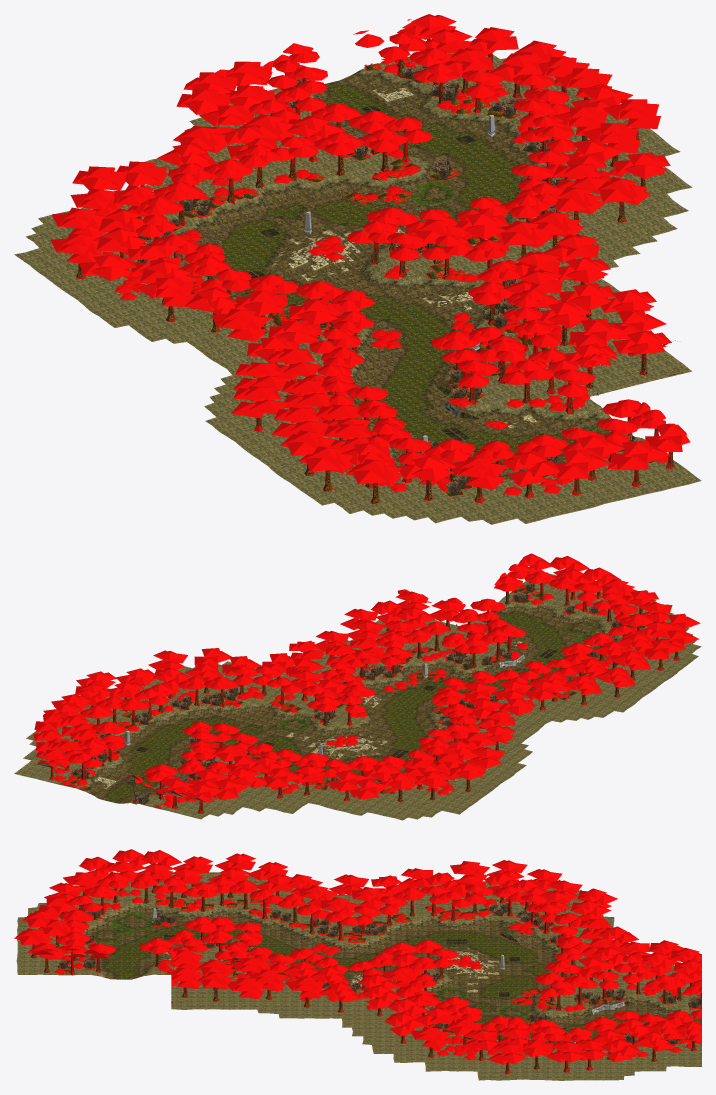
Rendered from EastBoseHighway2.obj.
3 views of the same model, one above another, from view 1: azimuth 30°, elevation 25°; view 2: azimuth 150°, elevation 25°; view 3: azimuth 270°, elevation 25° (orthographic). The views are drawn at different scales.
Parts seen in each view (by area): view 1: Object.2, Object.002; view 2: Object.2, Object.002; view 3: Object.2, Object.002.
Part boxes in pixels (bbox=[...]): Object.2: bbox=[14, 14, 692, 472]; Object.002: bbox=[276, 363, 701, 524]; Object.2: bbox=[14, 589, 670, 820]; Object.002: bbox=[463, 553, 701, 677]; Object.2: bbox=[171, 853, 701, 1080]; Object.002: bbox=[14, 849, 171, 979].
Bounding box in the file's own units: 95.45 × 7.28 × 131.
Materials: 12 (11 with a texture image).
